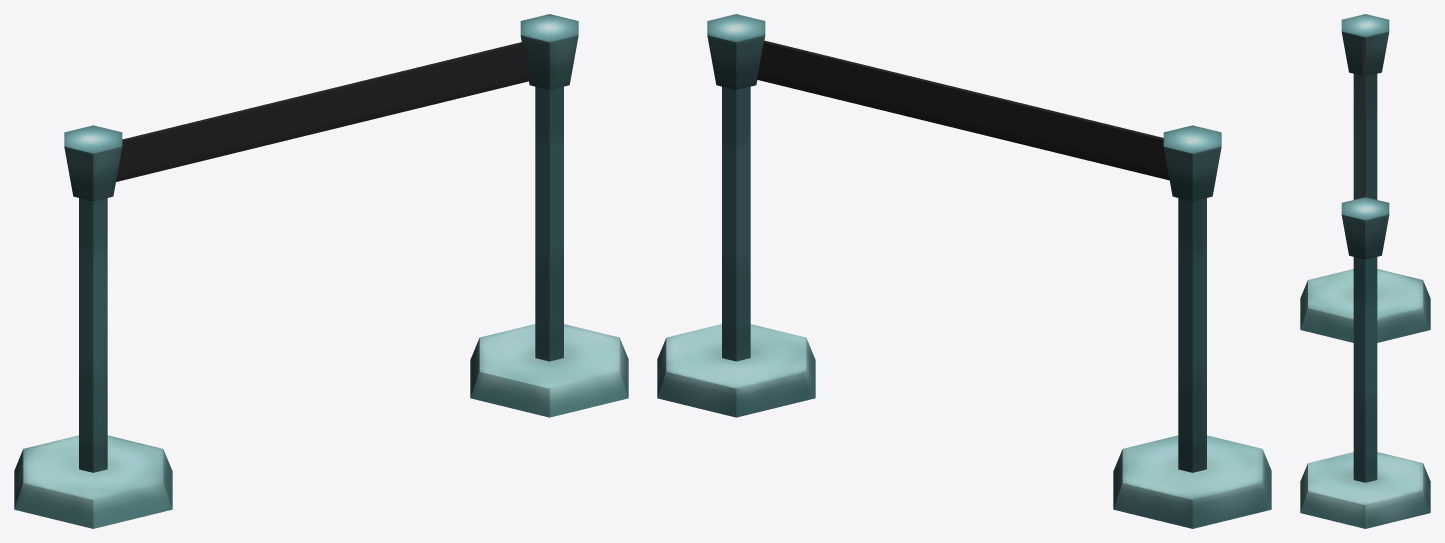
The model's file is Obstacles_Fence.fbx.
3 renders of one model, left to right at view 1: azimuth 30°, elevation 25°; view 2: azimuth 150°, elevation 25°; view 3: azimuth 270°, elevation 25°, orthographic. The views are drawn at different scales.
Parts seen in each view (by area): view 1: Obstacle_Fence; view 2: Obstacle_Fence; view 3: Obstacle_Fence.
Boxes of the visible parts, left/top/right/bottom form: Obstacle_Fence: left=14, top=14, right=628, bottom=528; Obstacle_Fence: left=657, top=14, right=1271, bottom=528; Obstacle_Fence: left=1300, top=14, right=1430, bottom=528.
Bounding box in the file's own units: 1000 × 545 × 223.
